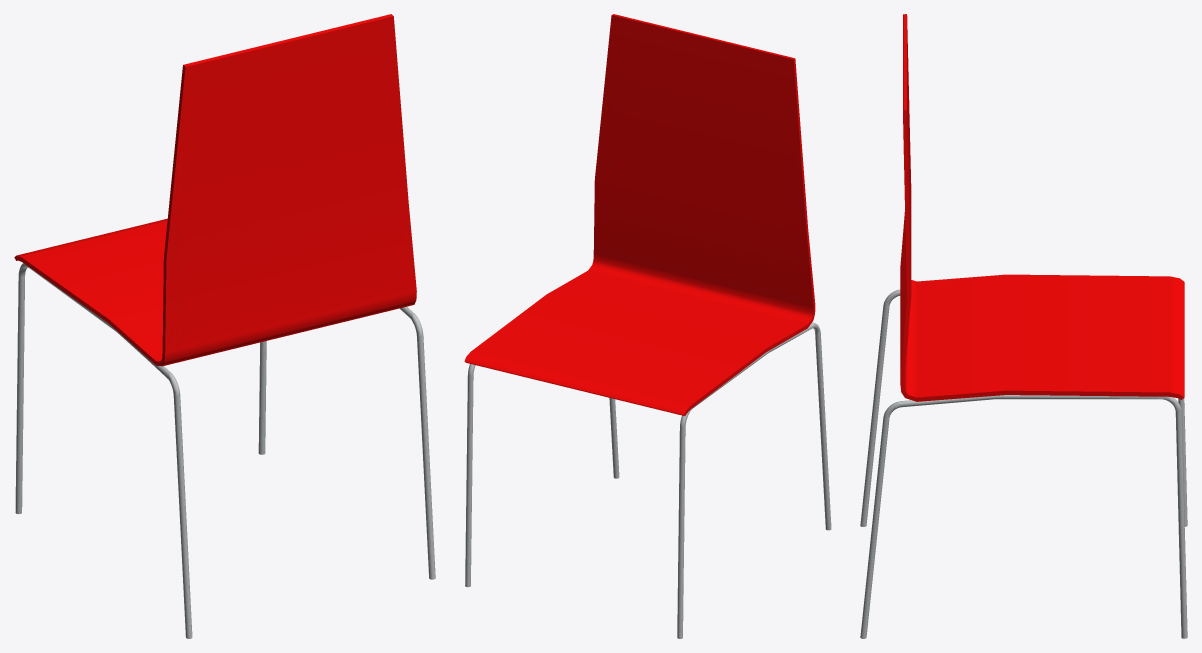
Rendered from chair16.glb.
3 renders of one model, left to right at view 1: azimuth 30°, elevation 25°; view 2: azimuth 150°, elevation 25°; view 3: azimuth 270°, elevation 25°, orthographic. The views are drawn at different scales.
Visible parts, largest first — view 1: chair16; view 2: chair16; view 3: chair16.
Boxes of the visible parts, bbox=[...] form: chair16: bbox=[14, 14, 435, 638]; chair16: bbox=[464, 14, 831, 638]; chair16: bbox=[860, 14, 1187, 638].
Size of what is drawn, in the model's own units: 0.4478 by 0.9351 by 0.5336.
1 material, 1 textured.
